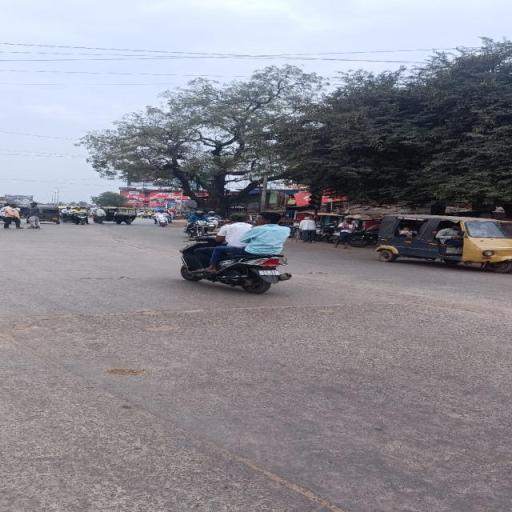bike: (179, 209, 301, 292)
withouthelmet: (257, 213, 277, 224), (230, 213, 246, 223)
